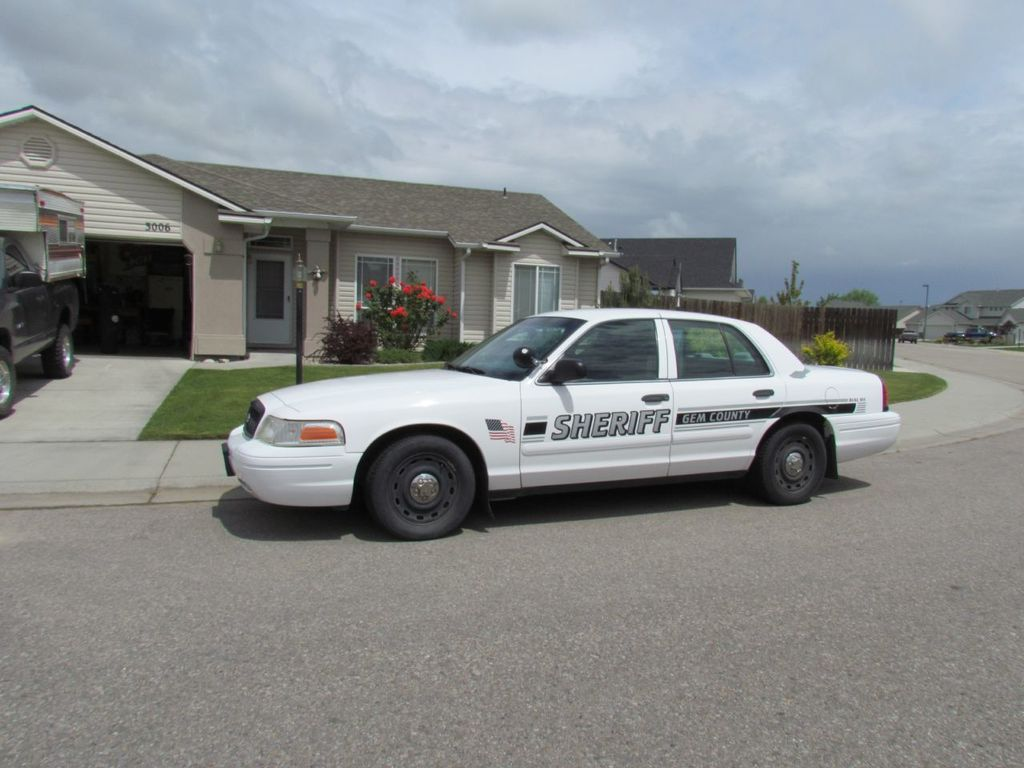Car: (224, 306, 899, 542), (0, 250, 71, 422)
